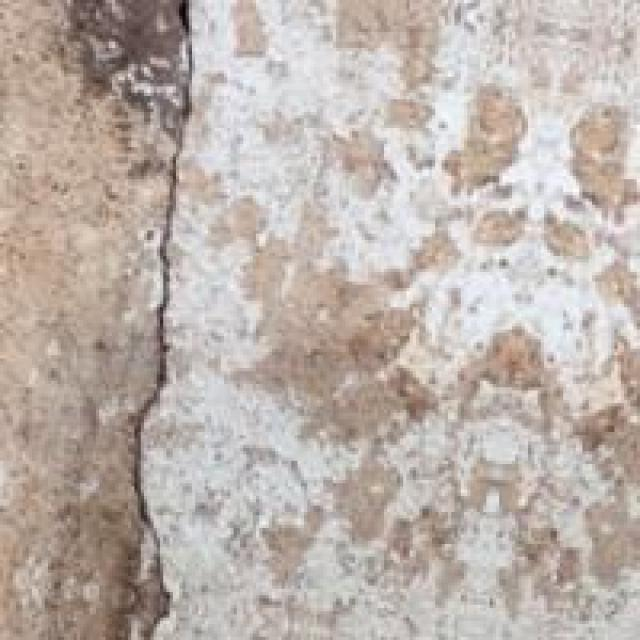crack: (102, 0, 262, 637)
